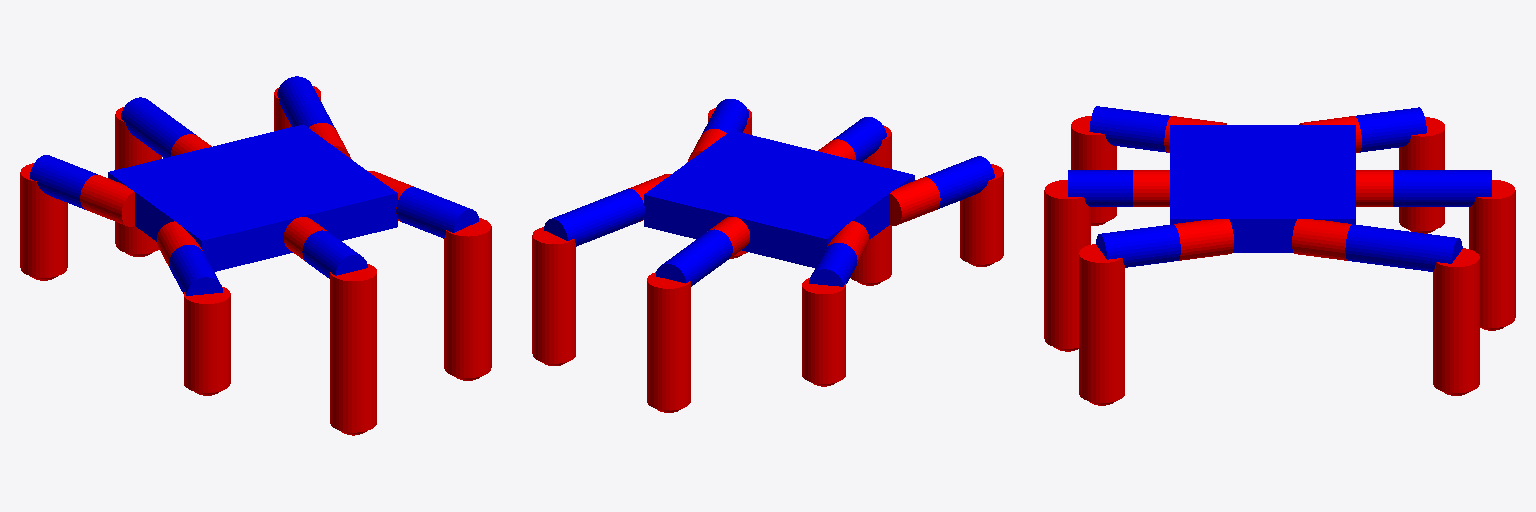
--- Render facts (derived) ---
3 views of the same robot in one strip: view 1: azimuth 30°, elevation 25°; view 2: azimuth 150°, elevation 25°; view 3: azimuth 270°, elevation 25° (orthographic).
Robot: pexod — 19 links, 18 joints (18 revolute); root link base_link; default pose: all joints at 0.
Visible links, largest first — view 1: base_link, leg_4_3, leg_3_3, leg_5_3, leg_0_3, leg_3_2, leg_1_3, leg_1_2, leg_0_1, leg_0_2, leg_4_2, leg_5_2 (+3 smaller); view 2: base_link, leg_1_3, leg_2_3, leg_0_3, leg_5_3, leg_2_2, leg_1_2, leg_4_3, leg_5_2, leg_5_1, leg_0_2, leg_4_2 (+3 smaller); view 3: base_link, leg_3_3, leg_2_3, leg_4_3, leg_1_3, leg_2_2, leg_1_2, leg_0_3, leg_3_2, leg_5_2, leg_5_3, leg_0_2 (+5 smaller).
Link boxes in pixels (x1=…): base_link: x1=108, y1=124, x2=397, y2=271; leg_4_3: x1=330, y1=264, x2=376, y2=435; leg_3_3: x1=444, y1=218, x2=491, y2=380; leg_5_3: x1=184, y1=287, x2=230, y2=395; leg_0_3: x1=20, y1=163, x2=67, y2=280; leg_3_2: x1=396, y1=187, x2=478, y2=238; leg_1_3: x1=115, y1=107, x2=161, y2=256; leg_1_2: x1=121, y1=97, x2=195, y2=157; leg_0_1: x1=80, y1=175, x2=134, y2=226; leg_0_2: x1=30, y1=155, x2=97, y2=209; leg_4_2: x1=302, y1=230, x2=367, y2=278; leg_5_2: x1=169, y1=245, x2=222, y2=295; base_link: x1=644, y1=130, x2=914, y2=267; leg_1_3: x1=647, y1=272, x2=690, y2=412; leg_2_3: x1=532, y1=227, x2=575, y2=365; leg_0_3: x1=802, y1=278, x2=845, y2=386; leg_5_3: x1=960, y1=164, x2=1003, y2=266; leg_2_2: x1=544, y1=189, x2=644, y2=246; leg_1_2: x1=656, y1=229, x2=732, y2=286; leg_4_3: x1=850, y1=125, x2=891, y2=285; leg_5_2: x1=925, y1=156, x2=994, y2=209; leg_5_1: x1=890, y1=177, x2=940, y2=225; leg_0_2: x1=809, y1=243, x2=857, y2=286; leg_4_2: x1=833, y1=117, x2=886, y2=161; base_link: x1=1170, y1=125, x2=1355, y2=252; leg_3_3: x1=1079, y1=244, x2=1124, y2=405; leg_2_3: x1=1433, y1=248, x2=1479, y2=395; leg_4_3: x1=1044, y1=180, x2=1090, y2=351; leg_1_3: x1=1469, y1=180, x2=1515, y2=330; leg_2_2: x1=1345, y1=224, x2=1462, y2=271; leg_1_2: x1=1393, y1=170, x2=1491, y2=206; leg_0_3: x1=1399, y1=117, x2=1444, y2=233; leg_3_2: x1=1096, y1=224, x2=1180, y2=267; leg_5_2: x1=1089, y1=106, x2=1170, y2=152; leg_5_3: x1=1071, y1=116, x2=1116, y2=225; leg_0_2: x1=1356, y1=107, x2=1426, y2=152.
Size in the robot's own frame: 0.3854 by 0.5063 by 0.2097 metres.
Geometry: primitives only (box / cylinder / sphere), no mesh files.

The robot description file, URDF, robot "pexod":
<?xml version="1.0" ?>
<!-- =================================================================================== -->
<!-- |    This document was autogenerated by xacro from pexod.xacro                    | -->
<!-- |    EDITING THIS FILE BY HAND IS NOT RECOMMENDED                                 | -->
<!-- =================================================================================== -->
<robot name="pexod" xmlns:xacro="http://www.ros.org/wiki/xacro">
  <!-- <xacro:include filename="$(find pexod_description)/urdf/pexod_control.xacro" /> -->
  <!-- MATERIALS -->
  <material name="Blue">
    <color rgba="0 0 1 1"/>
  </material>
  <material name="Red">
    <color rgba="1 0 0 1"/>
  </material>
  <material name="Green">
    <color rgba="0 1 0 1"/>
  </material>
  <material name="Yellow">
    <color rgba="1 1 0 1"/>
  </material>
  <material name="LightGrey">
    <color rgba="0.6 0.6 0.6 1.0"/>
  </material>
  <!-- END OF MATERIALS -->
  <!-- XACRO MACROS FOR VISUALS AND COLLISIONS -->
  <!-- END OF XACRO MACROS -->
  <!-- TORSO -->
  <link name="base_link">
    <visual>
      <origin rpy="0 0 0" xyz="0 0 0"/>
      <geometry>
        <box size="0.24 0.2 0.04"/>
      </geometry>
      <material name="Blue"/>
    </visual>
    <collision>
      <origin rpy="0 0 0" xyz="0 0 0"/>
      <geometry>
        <box size="0.24 0.2 0.04"/>
      </geometry>
    </collision>
    <inertial>
      <!-- CENTER OF MASS -->
      <origin rpy="0 0 0" xyz="0 0 0"/>
      <mass value="1.031"/>
      <!-- box inertia: 1/12*m(y^2+z^2), ... -->
      <inertia ixx="0.00357413333333" ixy="0" ixz="0" iyy="0.00508626666667" iyz="0" izz="0.00838546666667"/>
    </inertial>
  </link>
  <!-- XACRO MACRO FOR LEGS LINKS/JOINTS -->
  <!-- END OF LEG LINKS/JOINTS -->
  <joint name="body_leg_2" type="revolute">
    <parent link="base_link"/>
    <child link="leg_2_1"/>
    <limit effort="30.0" lower="-1.57079632679" upper="1.57079632679" velocity="7.0"/>
    <origin rpy="0 0 -0.3" xyz="0.11 0.04 0"/>
    <!-- <xacro:if value="${index == 5 or index == 4 or index == 3}">
                <axis xyz="0 0 1"/>
            </xacro:if>
            <xacro:if value="${index == 2 or index == 1 or index == 0}"> -->
    <axis xyz="0 0 1"/>
    <!-- </xacro:if> -->
    <dynamics damping="0.0"/>
  </joint>
  <link name="leg_2_1">
    <visual>
      <origin rpy="1.57079632679 0 0" xyz="0.01 0.03 0"/>
      <geometry>
        <cylinder length="0.06" radius="0.02"/>
      </geometry>
      <material name="Red"/>
    </visual>
    <collision>
      <origin rpy="1.57079632679 0 0" xyz="0.01 0.03 0"/>
      <geometry>
        <box size="0.02 0.02 0.06"/>
      </geometry>
    </collision>
    <inertial>
      <!-- CENTER OF MASS -->
      <origin rpy="1.57079632679 0 0" xyz="0.01 0.03 0"/>
      <mass value="0.02"/>
      <!-- box inertia: 1/12*m(y^2+z^2), ... -->
      <inertia ixx="6.66666666667e-06" ixy="0" ixz="0" iyy="6.66666666667e-06" iyz="0" izz="1.33333333333e-06"/>
    </inertial>
  </link>
  <joint name="leg_2_1_2" type="revolute">
    <parent link="leg_2_1"/>
    <child link="leg_2_2"/>
    <limit effort="30.0" lower="-0.78539816339" upper="0.78539816339" velocity="7.0"/>
    <origin rpy="0 0 0" xyz="0 0.06 0"/>
    <axis xyz="1 0 0"/>
    <dynamics damping="0.0"/>
  </joint>
  <link name="leg_2_2">
    <visual>
      <origin rpy="1.57079632679 0 0" xyz="0.01 0.0597160454515 0"/>
      <geometry>
        <cylinder length="0.119432090903" radius="0.02"/>
      </geometry>
      <material name="Blue"/>
    </visual>
    <collision>
      <origin rpy="1.57079632679 0 0" xyz="0.01 0.0597160454515 0"/>
      <geometry>
        <box size="0.02 0.02 0.119432090903"/>
      </geometry>
    </collision>
    <inertial>
      <!-- CENTER OF MASS -->
      <origin rpy="1.57079632679 0 0" xyz="0.01 0.0597160454515 0"/>
      <mass value="0.184"/>
      <!-- box inertia: 1/12*m(y^2+z^2), ... -->
      <inertia ixx="0.000224848373174" ixy="0" ixz="0" iyy="0.000224848373174" iyz="0" izz="1.22666666667e-05"/>
    </inertial>
  </link>
  <joint name="leg_2_2_3" type="revolute">
    <parent link="leg_2_2"/>
    <child link="leg_2_3"/>
    <limit effort="30.0" lower="-0.78539816339" upper="0.78539816339" velocity="7.0"/>
    <origin rpy="-1.57079632679 0 0" xyz="0 0.119432090903 0"/>
    <axis xyz="-1 0 0"/>
    <dynamics damping="0.0"/>
  </joint>
  <link name="leg_2_3">
    <visual>
      <origin rpy="1.57079632679 0 0" xyz="0.0125 0.074818727909 0"/>
      <geometry>
        <cylinder length="0.149637455818" radius="0.025"/>
      </geometry>
      <material name="Red"/>
    </visual>
    <visual>
      <origin rpy="1.57079632679 0 0" xyz="0.0125 0.137137455818 0"/>
      <geometry>
        <sphere radius="0.025"/>
      </geometry>
      <material name="Red"/>
    </visual>
    <collision>
      <origin rpy="1.57079632679 0 0" xyz="0.0125 0.074818727909 0"/>
      <geometry>
        <box size="0.025 0.025 0.149637455818"/>
      </geometry>
    </collision>
    <collision>
      <origin rpy="1.57079632679 0 0" xyz="0.0125 0.137137455818 0"/>
      <geometry>
        <sphere radius="0.025"/>
      </geometry>
      <material name="Red"/>
    </collision>
    <inertial>
      <!-- CENTER OF MASS -->
      <origin rpy="1.57079632679 0 0" xyz="0.0125 0.074818727909 0"/>
      <mass value="0.04"/>
      <!-- box inertia: 1/12*m(y^2+z^2), ... -->
      <inertia ixx="7.67212272789e-05" ixy="0" ixz="0" iyy="7.67212272789e-05" iyz="0" izz="4.16666666667e-06"/>
    </inertial>
  </link>
  <joint name="body_leg_3" type="revolute">
    <parent link="base_link"/>
    <child link="leg_3_1"/>
    <limit effort="30.0" lower="-1.57079632679" upper="1.57079632679" velocity="7.0"/>
    <origin rpy="0 0 0.3" xyz="0.11 -0.04 0"/>
    <!-- <xacro:if value="${index == 5 or index == 4 or index == 3}">
                <axis xyz="0 0 1"/>
            </xacro:if>
            <xacro:if value="${index == 2 or index == 1 or index == 0}"> -->
    <axis xyz="0 0 1"/>
    <!-- </xacro:if> -->
    <dynamics damping="0.0"/>
  </joint>
  <link name="leg_3_1">
    <visual>
      <origin rpy="1.57079632679 0 0" xyz="0.01 -0.03 0"/>
      <geometry>
        <cylinder length="0.06" radius="0.02"/>
      </geometry>
      <material name="Red"/>
    </visual>
    <collision>
      <origin rpy="1.57079632679 0 0" xyz="0.01 -0.03 0"/>
      <geometry>
        <box size="0.02 0.02 0.06"/>
      </geometry>
    </collision>
    <inertial>
      <!-- CENTER OF MASS -->
      <origin rpy="1.57079632679 0 0" xyz="0.01 -0.03 0"/>
      <mass value="0.02"/>
      <!-- box inertia: 1/12*m(y^2+z^2), ... -->
      <inertia ixx="6.66666666667e-06" ixy="0" ixz="0" iyy="6.66666666667e-06" iyz="0" izz="1.33333333333e-06"/>
    </inertial>
  </link>
  <joint name="leg_3_1_2" type="revolute">
    <parent link="leg_3_1"/>
    <child link="leg_3_2"/>
    <limit effort="30.0" lower="-0.78539816339" upper="0.78539816339" velocity="7.0"/>
    <origin rpy="0 0 0" xyz="0 -0.06 0"/>
    <axis xyz="-1 0 0"/>
    <dynamics damping="0.0"/>
  </joint>
  <link name="leg_3_2">
    <visual>
      <origin rpy="1.57079632679 0 0" xyz="0.01 -0.0414490843208 0"/>
      <geometry>
        <cylinder length="0.0828981686416" radius="0.02"/>
      </geometry>
      <material name="Blue"/>
    </visual>
    <collision>
      <origin rpy="1.57079632679 0 0" xyz="0.01 -0.0414490843208 0"/>
      <geometry>
        <box size="0.02 0.02 0.0828981686416"/>
      </geometry>
    </collision>
    <inertial>
      <!-- CENTER OF MASS -->
      <origin rpy="1.57079632679 0 0" xyz="0.01 -0.0414490843208 0"/>
      <mass value="0.184"/>
      <!-- box inertia: 1/12*m(y^2+z^2), ... -->
      <inertia ixx="0.000111505630917" ixy="0" ixz="0" iyy="0.000111505630917" iyz="0" izz="1.22666666667e-05"/>
    </inertial>
  </link>
  <joint name="leg_3_2_3" type="revolute">
    <parent link="leg_3_2"/>
    <child link="leg_3_3"/>
    <limit effort="30.0" lower="-0.78539816339" upper="0.78539816339" velocity="7.0"/>
    <origin rpy="1.57079632679 0 0" xyz="0 -0.0828981686416 0"/>
    <axis xyz="1 0 0"/>
    <dynamics damping="0.0"/>
  </joint>
  <link name="leg_3_3">
    <visual>
      <origin rpy="1.57079632679 0 0" xyz="0.0125 -0.0830263715875 0"/>
      <geometry>
        <cylinder length="0.166052743175" radius="0.025"/>
      </geometry>
      <material name="Red"/>
    </visual>
    <visual>
      <origin rpy="1.57079632679 0 0" xyz="0.0125 -0.153552743175 0"/>
      <geometry>
        <sphere radius="0.025"/>
      </geometry>
      <material name="Red"/>
    </visual>
    <collision>
      <origin rpy="1.57079632679 0 0" xyz="0.0125 -0.0830263715875 0"/>
      <geometry>
        <box size="0.025 0.025 0.166052743175"/>
      </geometry>
    </collision>
    <collision>
      <origin rpy="1.57079632679 0 0" xyz="0.0125 -0.153552743175 0"/>
      <geometry>
        <sphere radius="0.025"/>
      </geometry>
      <material name="Red"/>
    </collision>
    <inertial>
      <!-- CENTER OF MASS -->
      <origin rpy="1.57079632679 0 0" xyz="0.0125 -0.0830263715875 0"/>
      <mass value="0.04"/>
      <!-- box inertia: 1/12*m(y^2+z^2), ... -->
      <inertia ixx="9.39950450531e-05" ixy="0" ixz="0" iyy="9.39950450531e-05" iyz="0" izz="4.16666666667e-06"/>
    </inertial>
  </link>
  <joint name="body_leg_0" type="revolute">
    <parent link="base_link"/>
    <child link="leg_0_1"/>
    <limit effort="30.0" lower="-1.57079632679" upper="1.57079632679" velocity="7.0"/>
    <origin rpy="0 0 0.3" xyz="-0.13 0.04 0"/>
    <!-- <xacro:if value="${index == 5 or index == 4 or index == 3}">
                <axis xyz="0 0 1"/>
            </xacro:if>
            <xacro:if value="${index == 2 or index == 1 or index == 0}"> -->
    <axis xyz="0 0 1"/>
    <!-- </xacro:if> -->
    <dynamics damping="0.0"/>
  </joint>
  <link name="leg_0_1">
    <visual>
      <origin rpy="1.57079632679 0 0" xyz="0.01 0.03 0"/>
      <geometry>
        <cylinder length="0.06" radius="0.02"/>
      </geometry>
      <material name="Red"/>
    </visual>
    <collision>
      <origin rpy="1.57079632679 0 0" xyz="0.01 0.03 0"/>
      <geometry>
        <box size="0.02 0.02 0.06"/>
      </geometry>
    </collision>
    <inertial>
      <!-- CENTER OF MASS -->
      <origin rpy="1.57079632679 0 0" xyz="0.01 0.03 0"/>
      <mass value="0.02"/>
      <!-- box inertia: 1/12*m(y^2+z^2), ... -->
      <inertia ixx="6.66666666667e-06" ixy="0" ixz="0" iyy="6.66666666667e-06" iyz="0" izz="1.33333333333e-06"/>
    </inertial>
  </link>
  <joint name="leg_0_1_2" type="revolute">
    <parent link="leg_0_1"/>
    <child link="leg_0_2"/>
    <limit effort="30.0" lower="-0.78539816339" upper="0.78539816339" velocity="7.0"/>
    <origin rpy="0 0 0" xyz="0 0.06 0"/>
    <axis xyz="1 0 0"/>
    <dynamics damping="0.0"/>
  </joint>
  <link name="leg_0_2">
    <visual>
      <origin rpy="1.57079632679 0 0" xyz="0.01 0.036611822845 0"/>
      <geometry>
        <cylinder length="0.0732236456899" radius="0.02"/>
      </geometry>
      <material name="Blue"/>
    </visual>
    <collision>
      <origin rpy="1.57079632679 0 0" xyz="0.01 0.036611822845 0"/>
      <geometry>
        <box size="0.02 0.02 0.0732236456899"/>
      </geometry>
    </collision>
    <inertial>
      <!-- CENTER OF MASS -->
      <origin rpy="1.57079632679 0 0" xyz="0.01 0.036611822845 0"/>
      <mass value="0.184"/>
      <!-- box inertia: 1/12*m(y^2+z^2), ... -->
      <inertia ixx="8.83461017512e-05" ixy="0" ixz="0" iyy="8.83461017512e-05" iyz="0" izz="1.22666666667e-05"/>
    </inertial>
  </link>
  <joint name="leg_0_2_3" type="revolute">
    <parent link="leg_0_2"/>
    <child link="leg_0_3"/>
    <limit effort="30.0" lower="-0.78539816339" upper="0.78539816339" velocity="7.0"/>
    <origin rpy="-1.57079632679 0 0" xyz="0 0.0732236456899 0"/>
    <axis xyz="-1 0 0"/>
    <dynamics damping="0.0"/>
  </joint>
  <link name="leg_0_3">
    <visual>
      <origin rpy="1.57079632679 0 0" xyz="0.0125 0.0562086604905 0"/>
      <geometry>
        <cylinder length="0.112417320981" radius="0.025"/>
      </geometry>
      <material name="Red"/>
    </visual>
    <visual>
      <origin rpy="1.57079632679 0 0" xyz="0.0125 0.099917320981 0"/>
      <geometry>
        <sphere radius="0.025"/>
      </geometry>
      <material name="Red"/>
    </visual>
    <collision>
      <origin rpy="1.57079632679 0 0" xyz="0.0125 0.0562086604905 0"/>
      <geometry>
        <box size="0.025 0.025 0.112417320981"/>
      </geometry>
    </collision>
    <collision>
      <origin rpy="1.57079632679 0 0" xyz="0.0125 0.099917320981 0"/>
      <geometry>
        <sphere radius="0.025"/>
      </geometry>
      <material name="Red"/>
    </collision>
    <inertial>
      <!-- CENTER OF MASS -->
      <origin rpy="1.57079632679 0 0" xyz="0.0125 0.0562086604905 0"/>
      <mass value="0.04"/>
      <!-- box inertia: 1/12*m(y^2+z^2), ... -->
      <inertia ixx="4.42088468552e-05" ixy="0" ixz="0" iyy="4.42088468552e-05" iyz="0" izz="4.16666666667e-06"/>
    </inertial>
  </link>
  <joint name="body_leg_5" type="revolute">
    <parent link="base_link"/>
    <child link="leg_5_1"/>
    <limit effort="30.0" lower="-1.57079632679" upper="1.57079632679" velocity="7.0"/>
    <origin rpy="0 0 -0.3" xyz="-0.13 -0.04 0"/>
    <!-- <xacro:if value="${index == 5 or index == 4 or index == 3}">
                <axis xyz="0 0 1"/>
            </xacro:if>
            <xacro:if value="${index == 2 or index == 1 or index == 0}"> -->
    <axis xyz="0 0 1"/>
    <!-- </xacro:if> -->
    <dynamics damping="0.0"/>
  </joint>
  <link name="leg_5_1">
    <visual>
      <origin rpy="1.57079632679 0 0" xyz="0.01 -0.03 0"/>
      <geometry>
        <cylinder length="0.06" radius="0.02"/>
      </geometry>
      <material name="Red"/>
    </visual>
    <collision>
      <origin rpy="1.57079632679 0 0" xyz="0.01 -0.03 0"/>
      <geometry>
        <box size="0.02 0.02 0.06"/>
      </geometry>
    </collision>
    <inertial>
      <!-- CENTER OF MASS -->
      <origin rpy="1.57079632679 0 0" xyz="0.01 -0.03 0"/>
      <mass value="0.02"/>
      <!-- box inertia: 1/12*m(y^2+z^2), ... -->
      <inertia ixx="6.66666666667e-06" ixy="0" ixz="0" iyy="6.66666666667e-06" iyz="0" izz="1.33333333333e-06"/>
    </inertial>
  </link>
  <joint name="leg_5_1_2" type="revolute">
    <parent link="leg_5_1"/>
    <child link="leg_5_2"/>
    <limit effort="30.0" lower="-0.78539816339" upper="0.78539816339" velocity="7.0"/>
    <origin rpy="0 0 0" xyz="0 -0.06 0"/>
    <axis xyz="-1 0 0"/>
    <dynamics damping="0.0"/>
  </joint>
  <link name="leg_5_2">
    <visual>
      <origin rpy="1.57079632679 0 0" xyz="0.01 -0.042109868179 0"/>
      <geometry>
        <cylinder length="0.084219736358" radius="0.02"/>
      </geometry>
      <material name="Blue"/>
    </visual>
    <collision>
      <origin rpy="1.57079632679 0 0" xyz="0.01 -0.042109868179 0"/>
      <geometry>
        <box size="0.02 0.02 0.084219736358"/>
      </geometry>
    </collision>
    <inertial>
      <!-- CENTER OF MASS -->
      <origin rpy="1.57079632679 0 0" xyz="0.01 -0.042109868179 0"/>
      <mass value="0.184"/>
      <!-- box inertia: 1/12*m(y^2+z^2), ... -->
      <inertia ixx="0.000114892114547" ixy="0" ixz="0" iyy="0.000114892114547" iyz="0" izz="1.22666666667e-05"/>
    </inertial>
  </link>
  <joint name="leg_5_2_3" type="revolute">
    <parent link="leg_5_2"/>
    <child link="leg_5_3"/>
    <limit effort="30.0" lower="-0.78539816339" upper="0.78539816339" velocity="7.0"/>
    <origin rpy="1.57079632679 0 0" xyz="0 -0.084219736358 0"/>
    <axis xyz="1 0 0"/>
    <dynamics damping="0.0"/>
  </joint>
  <link name="leg_5_3">
    <visual>
      <origin rpy="1.57079632679 0 0" xyz="0.0125 -0.0521307979315 0"/>
      <geometry>
        <cylinder length="0.104261595863" radius="0.025"/>
      </geometry>
      <material name="Red"/>
    </visual>
    <visual>
      <origin rpy="1.57079632679 0 0" xyz="0.0125 -0.091761595863 0"/>
      <geometry>
        <sphere radius="0.025"/>
      </geometry>
      <material name="Red"/>
    </visual>
    <collision>
      <origin rpy="1.57079632679 0 0" xyz="0.0125 -0.0521307979315 0"/>
      <geometry>
        <box size="0.025 0.025 0.104261595863"/>
      </geometry>
    </collision>
    <collision>
      <origin rpy="1.57079632679 0 0" xyz="0.0125 -0.091761595863 0"/>
      <geometry>
        <sphere radius="0.025"/>
      </geometry>
      <material name="Red"/>
    </collision>
    <inertial>
      <!-- CENTER OF MASS -->
      <origin rpy="1.57079632679 0 0" xyz="0.0125 -0.0521307979315 0"/>
      <mass value="0.04"/>
      <!-- box inertia: 1/12*m(y^2+z^2), ... -->
      <inertia ixx="3.83182679063e-05" ixy="0" ixz="0" iyy="3.83182679063e-05" iyz="0" izz="4.16666666667e-06"/>
    </inertial>
  </link>
  <joint name="body_leg_1" type="revolute">
    <parent link="base_link"/>
    <child link="leg_1_1"/>
    <limit effort="30.0" lower="-1.57079632679" upper="1.57079632679" velocity="7.0"/>
    <origin rpy="0 0 0" xyz="-0.01 0.08 0"/>
    <!-- <xacro:if value="${index == 5 or index == 4 or index == 3}">
                <axis xyz="0 0 1"/>
            </xacro:if>
            <xacro:if value="${index == 2 or index == 1 or index == 0}"> -->
    <axis xyz="0 0 1"/>
    <!-- </xacro:if> -->
    <dynamics damping="0.0"/>
  </joint>
  <link name="leg_1_1">
    <visual>
      <origin rpy="1.57079632679 0 0" xyz="0.01 0.03 0"/>
      <geometry>
        <cylinder length="0.06" radius="0.02"/>
      </geometry>
      <material name="Red"/>
    </visual>
    <collision>
      <origin rpy="1.57079632679 0 0" xyz="0.01 0.03 0"/>
      <geometry>
        <box size="0.02 0.02 0.06"/>
      </geometry>
    </collision>
    <inertial>
      <!-- CENTER OF MASS -->
      <origin rpy="1.57079632679 0 0" xyz="0.01 0.03 0"/>
      <mass value="0.02"/>
      <!-- box inertia: 1/12*m(y^2+z^2), ... -->
      <inertia ixx="6.66666666667e-06" ixy="0" ixz="0" iyy="6.66666666667e-06" iyz="0" izz="1.33333333333e-06"/>
    </inertial>
  </link>
  <joint name="leg_1_1_2" type="revolute">
    <parent link="leg_1_1"/>
    <child link="leg_1_2"/>
    <limit effort="30.0" lower="-0.78539816339" upper="0.78539816339" velocity="7.0"/>
    <origin rpy="0 0 0" xyz="0 0.06 0"/>
    <axis xyz="1 0 0"/>
    <dynamics damping="0.0"/>
  </joint>
  <link name="leg_1_2">
    <visual>
      <origin rpy="1.57079632679 0 0" xyz="0.01 0.0531298961265 0"/>
      <geometry>
        <cylinder length="0.106259792253" radius="0.02"/>
      </geometry>
      <material name="Blue"/>
    </visual>
    <collision>
      <origin rpy="1.57079632679 0 0" xyz="0.01 0.0531298961265 0"/>
      <geometry>
        <box size="0.02 0.02 0.106259792253"/>
      </geometry>
    </collision>
    <inertial>
      <!-- CENTER OF MASS -->
      <origin rpy="1.57079632679 0 0" xyz="0.01 0.0531298961265 0"/>
      <mass value="0.184"/>
      <!-- box inertia: 1/12*m(y^2+z^2), ... -->
      <inertia ixx="0.000179264199561" ixy="0" ixz="0" iyy="0.000179264199561" iyz="0" izz="1.22666666667e-05"/>
    </inertial>
  </link>
  <joint name="leg_1_2_3" type="revolute">
    <parent link="leg_1_2"/>
    <child link="leg_1_3"/>
    <limit effort="30.0" lower="-0.78539816339" upper="0.78539816339" velocity="7.0"/>
    <origin rpy="-1.57079632679 0 0" xyz="0 0.106259792253 0"/>
    <axis xyz="-1 0 0"/>
    <dynamics damping="0.0"/>
  </joint>
  <link name="leg_1_3">
    <visual>
      <origin rpy="1.57079632679 0 0" xyz="0.0125 0.0762614224025 0"/>
      <geometry>
        <cylinder length="0.152522844805" radius="0.025"/>
      </geometry>
      <material name="Red"/>
    </visual>
    <visual>
      <origin rpy="1.57079632679 0 0" xyz="0.0125 0.140022844805 0"/>
      <geometry>
        <sphere radius="0.025"/>
      </geometry>
      <material name="Red"/>
    </visual>
    <collision>
      <origin rpy="1.57079632679 0 0" xyz="0.0125 0.0762614224025 0"/>
      <geometry>
        <box size="0.025 0.025 0.152522844805"/>
      </geometry>
    </collision>
    <collision>
      <origin rpy="1.57079632679 0 0" xyz="0.0125 0.140022844805 0"/>
      <geometry>
        <sphere radius="0.025"/>
      </geometry>
      <material name="Red"/>
    </collision>
    <inertial>
      <!-- CENTER OF MASS -->
      <origin rpy="1.57079632679 0 0" xyz="0.0125 0.0762614224025 0"/>
      <mass value="0.04"/>
      <!-- box inertia: 1/12*m(y^2+z^2), ... -->
      <inertia ixx="7.9627393958e-05" ixy="0" ixz="0" iyy="7.9627393958e-05" iyz="0" izz="4.16666666667e-06"/>
    </inertial>
  </link>
  <joint name="body_leg_4" type="revolute">
    <parent link="base_link"/>
    <child link="leg_4_1"/>
    <limit effort="30.0" lower="-1.57079632679" upper="1.57079632679" velocity="7.0"/>
    <origin rpy="0 0 0" xyz="-0.01 -0.08 0"/>
    <!-- <xacro:if value="${index == 5 or index == 4 or index == 3}">
                <axis xyz="0 0 1"/>
            </xacro:if>
            <xacro:if value="${index == 2 or index == 1 or index == 0}"> -->
    <axis xyz="0 0 1"/>
    <!-- </xacro:if> -->
    <dynamics damping="0.0"/>
  </joint>
  <link name="leg_4_1">
    <visual>
      <origin rpy="1.57079632679 0 0" xyz="0.01 -0.03 0"/>
      <geometry>
        <cylinder length="0.06" radius="0.02"/>
      </geometry>
      <material name="Red"/>
    </visual>
    <collision>
      <origin rpy="1.57079632679 0 0" xyz="0.01 -0.03 0"/>
      <geometry>
        <box size="0.02 0.02 0.06"/>
      </geometry>
    </collision>
    <inertial>
      <!-- CENTER OF MASS -->
      <origin rpy="1.57079632679 0 0" xyz="0.01 -0.03 0"/>
      <mass value="0.02"/>
      <!-- box inertia: 1/12*m(y^2+z^2), ... -->
      <inertia ixx="6.66666666667e-06" ixy="0" ixz="0" iyy="6.66666666667e-06" iyz="0" izz="1.33333333333e-06"/>
    </inertial>
  </link>
  <joint name="leg_4_1_2" type="revolute">
    <parent link="leg_4_1"/>
    <child link="leg_4_2"/>
    <limit effort="30.0" lower="-0.78539816339" upper="0.78539816339" velocity="7.0"/>
    <origin rpy="0 0 0" xyz="0 -0.06 0"/>
    <axis xyz="-1 0 0"/>
    <dynamics damping="0.0"/>
  </joint>
  <link name="leg_4_2">
    <visual>
      <origin rpy="1.57079632679 0 0" xyz="0.01 -0.0349974092036 0"/>
      <geometry>
        <cylinder length="0.0699948184072" radius="0.02"/>
      </geometry>
      <material name="Blue"/>
    </visual>
    <collision>
      <origin rpy="1.57079632679 0 0" xyz="0.01 -0.0349974092036 0"/>
      <geometry>
        <box size="0.02 0.02 0.0699948184072"/>
      </geometry>
    </collision>
    <inertial>
      <!-- CENTER OF MASS -->
      <origin rpy="1.57079632679 0 0" xyz="0.01 -0.0349974092036 0"/>
      <mass value="0.184"/>
      <!-- box inertia: 1/12*m(y^2+z^2), ... -->
      <inertia ixx="8.12555439258e-05" ixy="0" ixz="0" iyy="8.12555439258e-05" iyz="0" izz="1.22666666667e-05"/>
    </inertial>
  </link>
  <joint name="leg_4_2_3" type="revolute">
    <parent link="leg_4_2"/>
    <child link="leg_4_3"/>
    <limit effort="30.0" lower="-0.78539816339" upper="0.78539816339" velocity="7.0"/>
    <origin rpy="1.57079632679 0 0" xyz="0 -0.0699948184072 0"/>
    <axis xyz="1 0 0"/>
    <dynamics damping="0.0"/>
  </joint>
  <link name="leg_4_3">
    <visual>
      <origin rpy="1.57079632679 0 0" xyz="0.0125 -0.088585137121 0"/>
      <geometry>
        <cylinder length="0.177170274242" radius="0.025"/>
      </geometry>
      <material name="Red"/>
    </visual>
    <visual>
      <origin rpy="1.57079632679 0 0" xyz="0.0125 -0.164670274242 0"/>
      <geometry>
        <sphere radius="0.025"/>
      </geometry>
      <material name="Red"/>
    </visual>
    <collision>
      <origin rpy="1.57079632679 0 0" xyz="0.0125 -0.088585137121 0"/>
      <geometry>
        <box size="0.025 0.025 0.177170274242"/>
      </geometry>
    </collision>
    <collision>
      <origin rpy="1.57079632679 0 0" xyz="0.0125 -0.164670274242 0"/>
      <geometry>
        <sphere radius="0.025"/>
      </geometry>
      <material name="Red"/>
    </collision>
    <inertial>
      <!-- CENTER OF MASS -->
      <origin rpy="1.57079632679 0 0" xyz="0.0125 -0.088585137121 0"/>
      <mass value="0.04"/>
      <!-- box inertia: 1/12*m(y^2+z^2), ... -->
      <inertia ixx="0.000106714353583" ixy="0" ixz="0" iyy="0.000106714353583" iyz="0" izz="4.16666666667e-06"/>
    </inertial>
  </link>
  <!-- END OF LEG LINKS/JOINTS -->
</robot>
